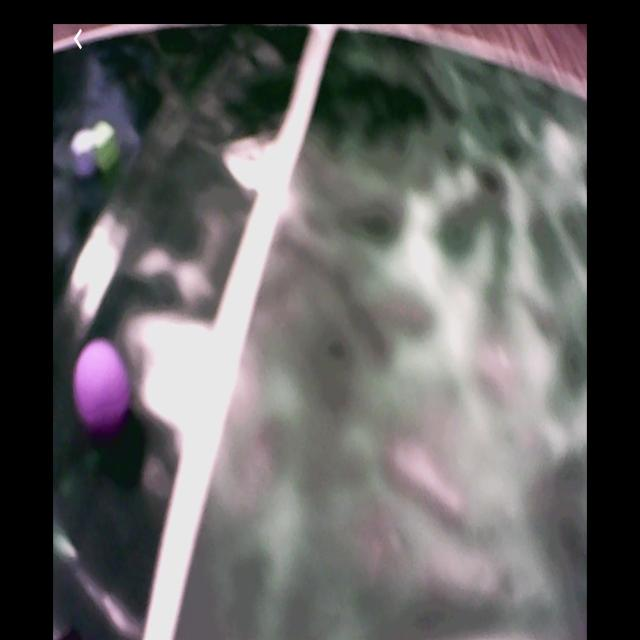ball: (74, 340, 131, 432)
